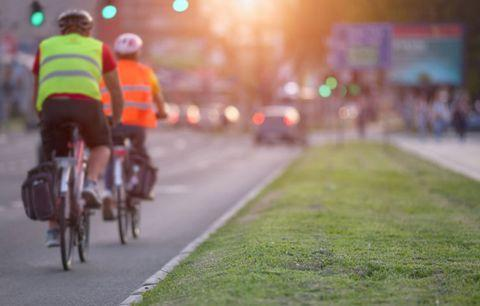Vest: (34, 33, 100, 104)
